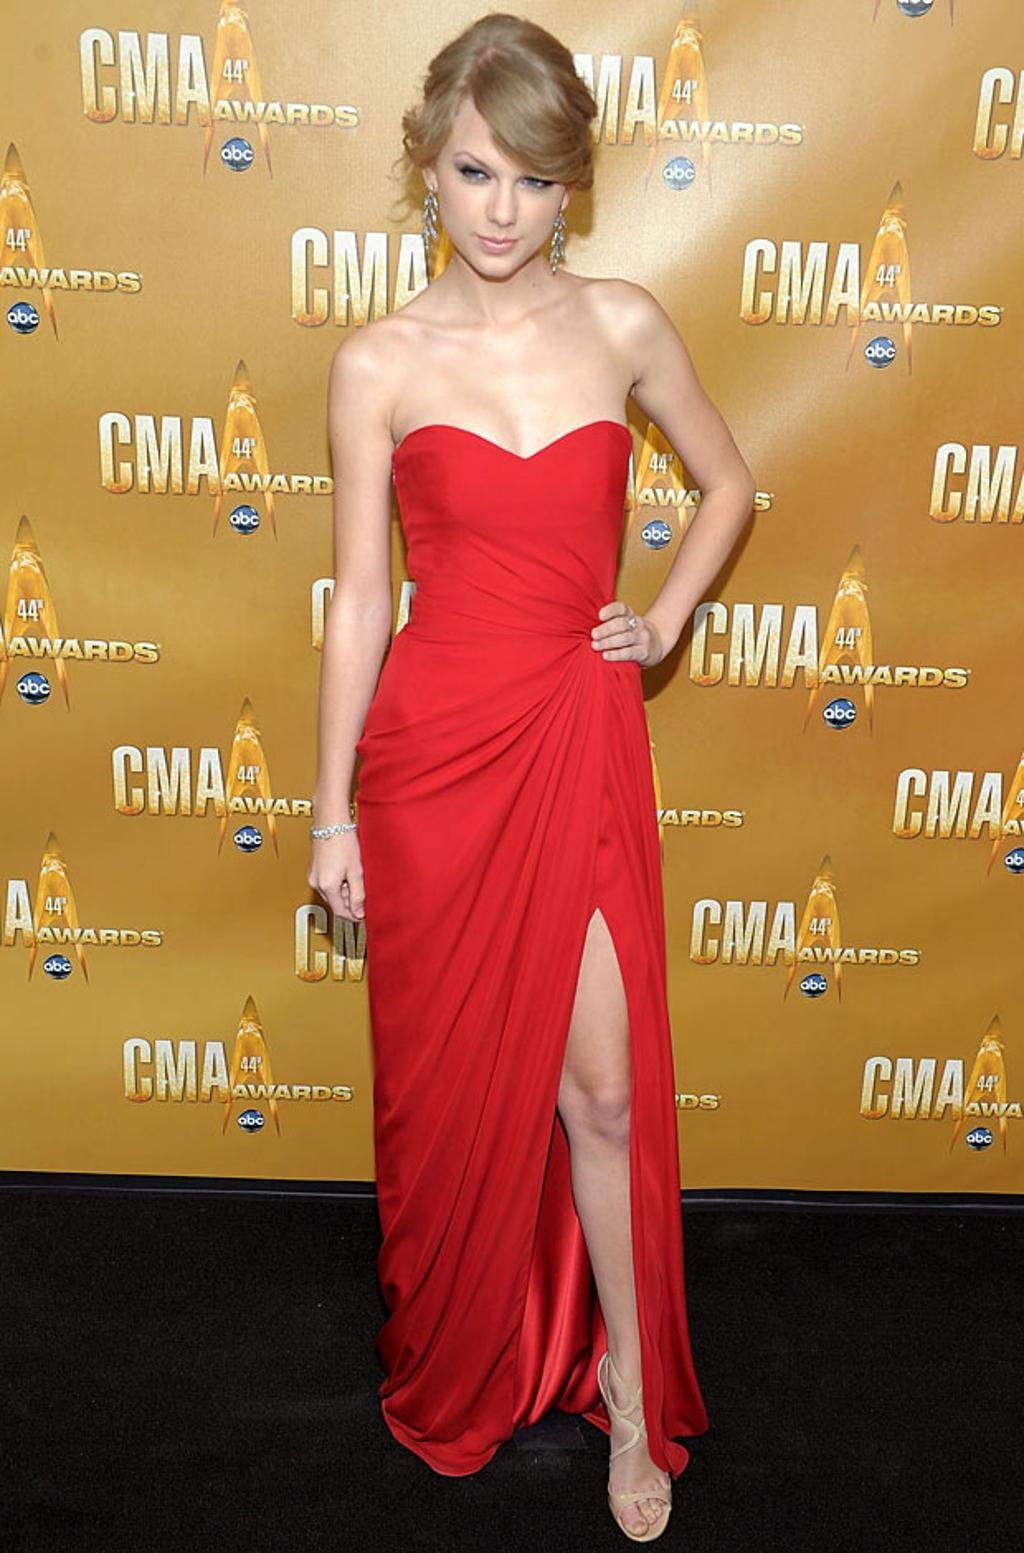face: (439, 85, 563, 282)
